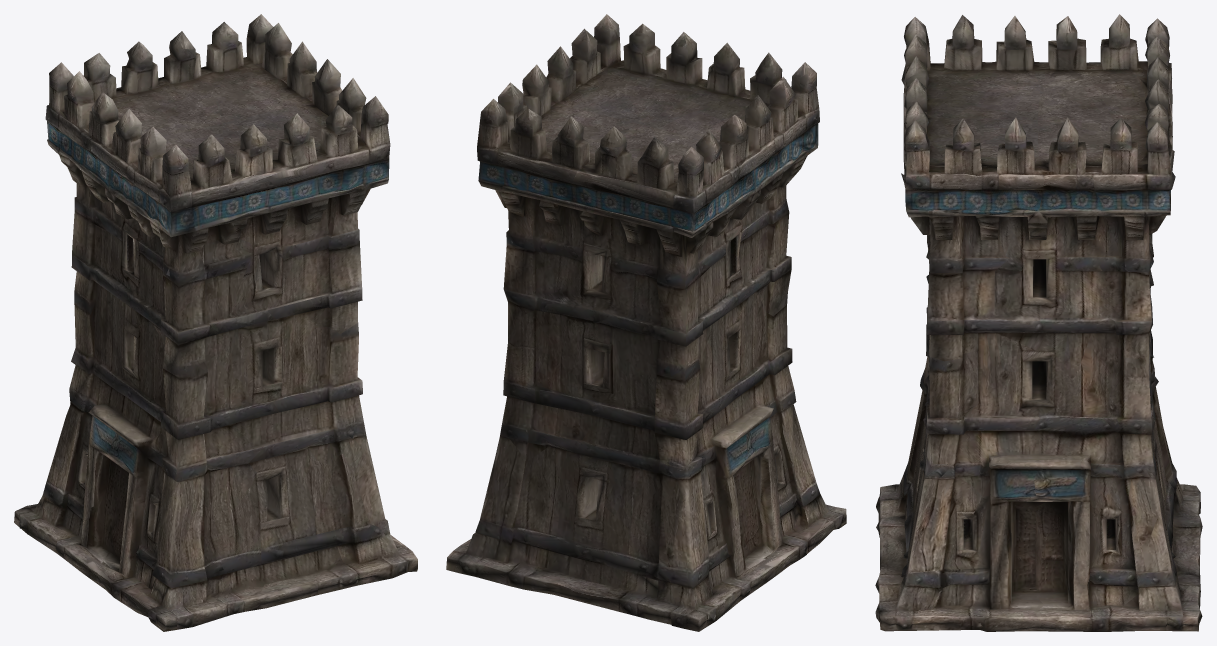
The model's file is castle_tower_medium_wood.glb.
3 views of the same model, side by side, from view 1: azimuth 30°, elevation 25°; view 2: azimuth 150°, elevation 25°; view 3: azimuth 270°, elevation 25° (orthographic). The views are drawn at different scales.
Visible parts, largest first — view 1: tripo_node_1a173bee-4266-46d5-8697-ab4af1047a94; view 2: tripo_node_1a173bee-4266-46d5-8697-ab4af1047a94; view 3: tripo_node_1a173bee-4266-46d5-8697-ab4af1047a94.
Part boxes in pixels (x1,y1,x2,y2): tripo_node_1a173bee-4266-46d5-8697-ab4af1047a94: (14,14,417,631); tripo_node_1a173bee-4266-46d5-8697-ab4af1047a94: (446,14,846,631); tripo_node_1a173bee-4266-46d5-8697-ab4af1047a94: (875,14,1202,631).
Size of the model in its own units: 0.5746 by 0.9792 by 0.581.
1 material, 1 textured.
